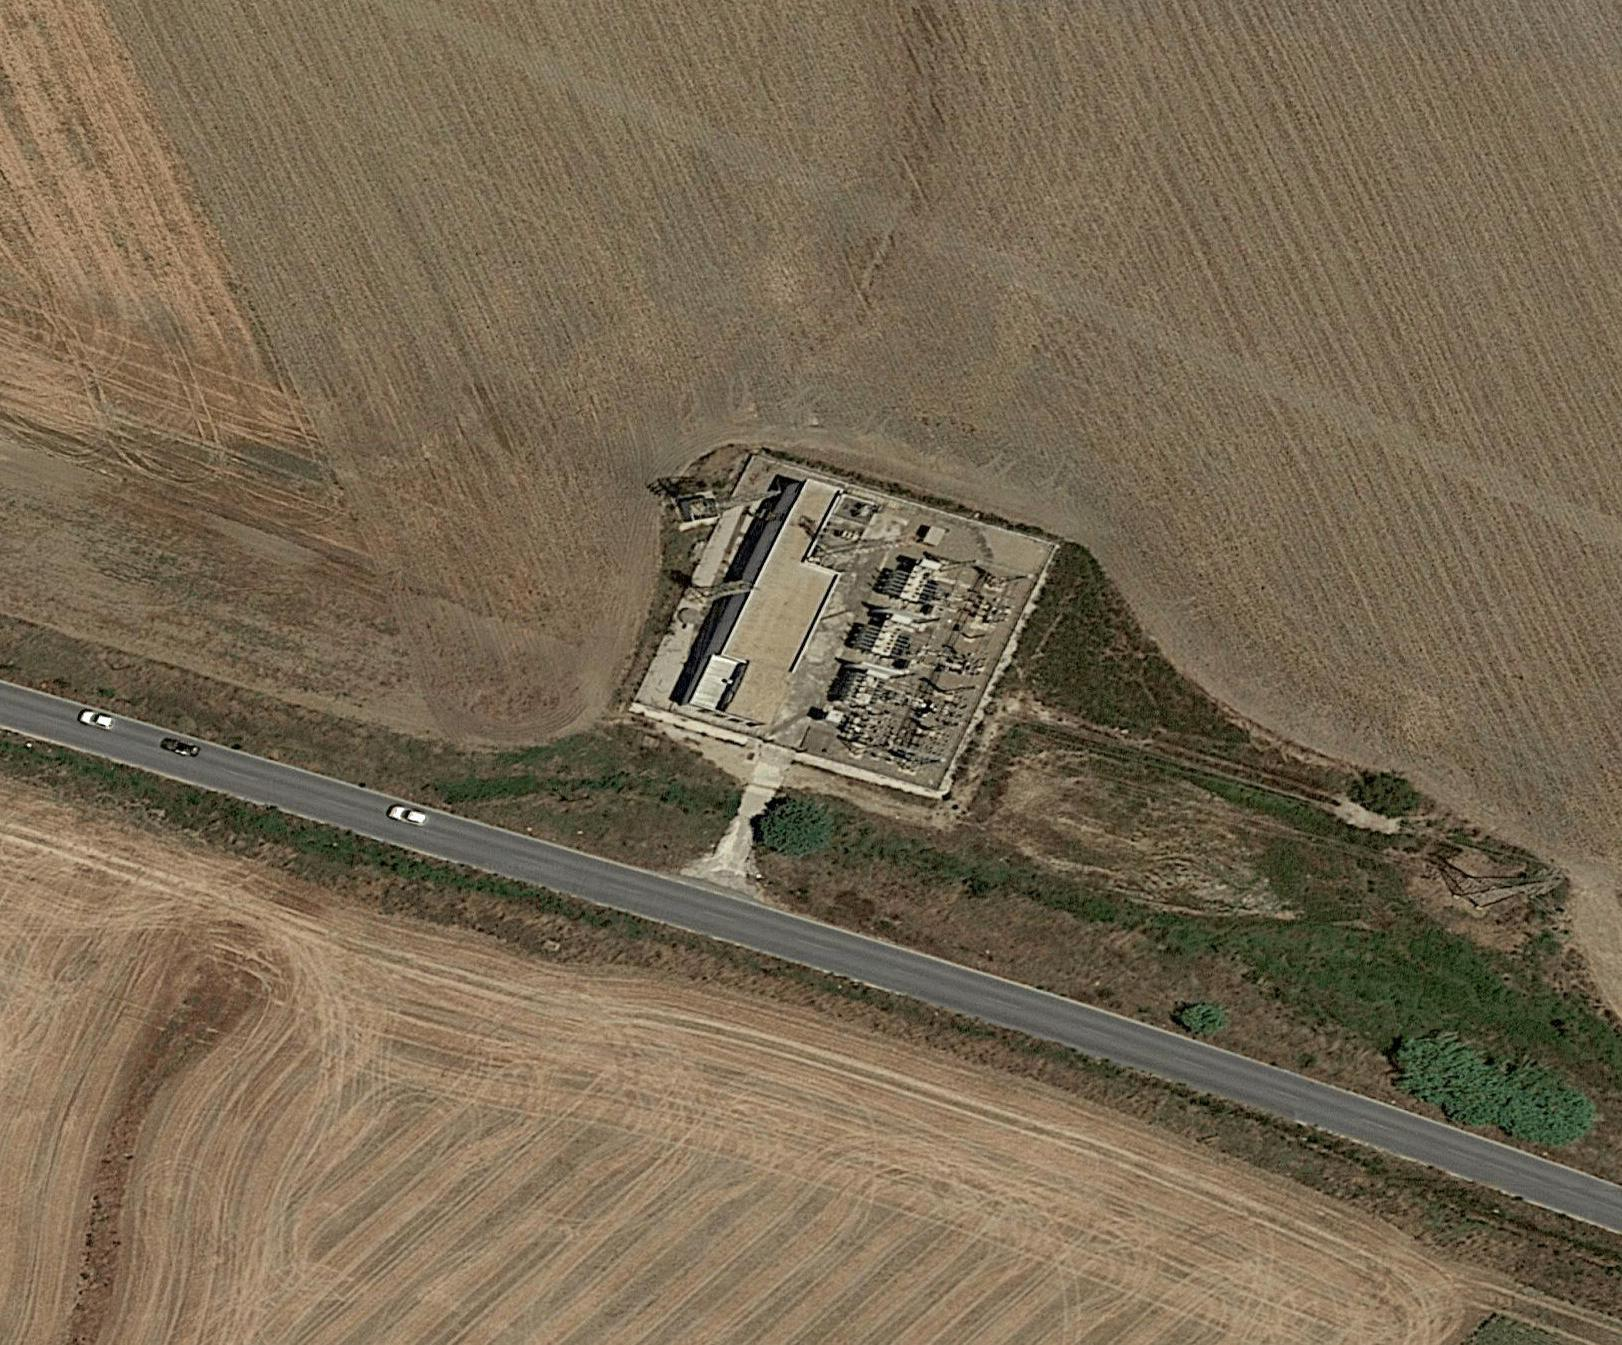substation: (798, 482, 1035, 787)
